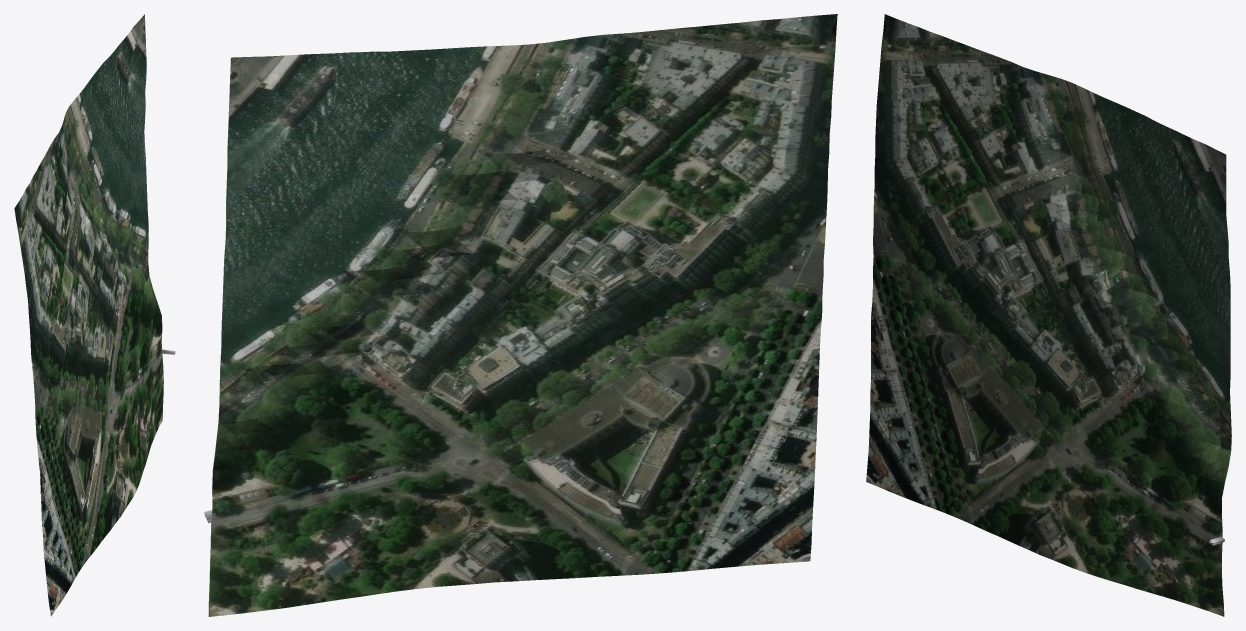
3 views of the same model, side by side, from view 1: azimuth 30°, elevation 25°; view 2: azimuth 150°, elevation 25°; view 3: azimuth 270°, elevation 25° (orthographic). The views are drawn at different scales.
Bounding box in the file's own units: 318 × 414 × 294.
1 material, 1 textured.
